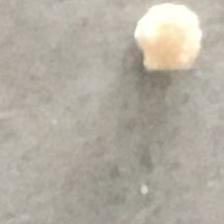Non_Crack: (28, 64, 222, 218)
